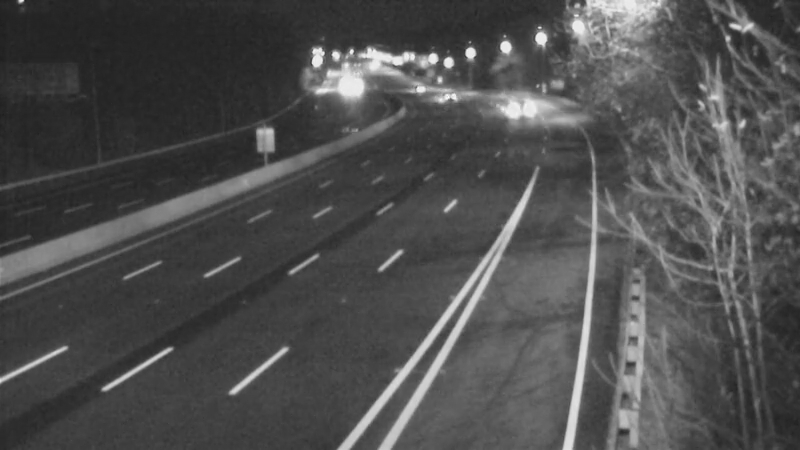vehicle: (393, 62, 443, 112), (419, 72, 469, 122), (479, 83, 529, 133), (325, 62, 375, 112)
